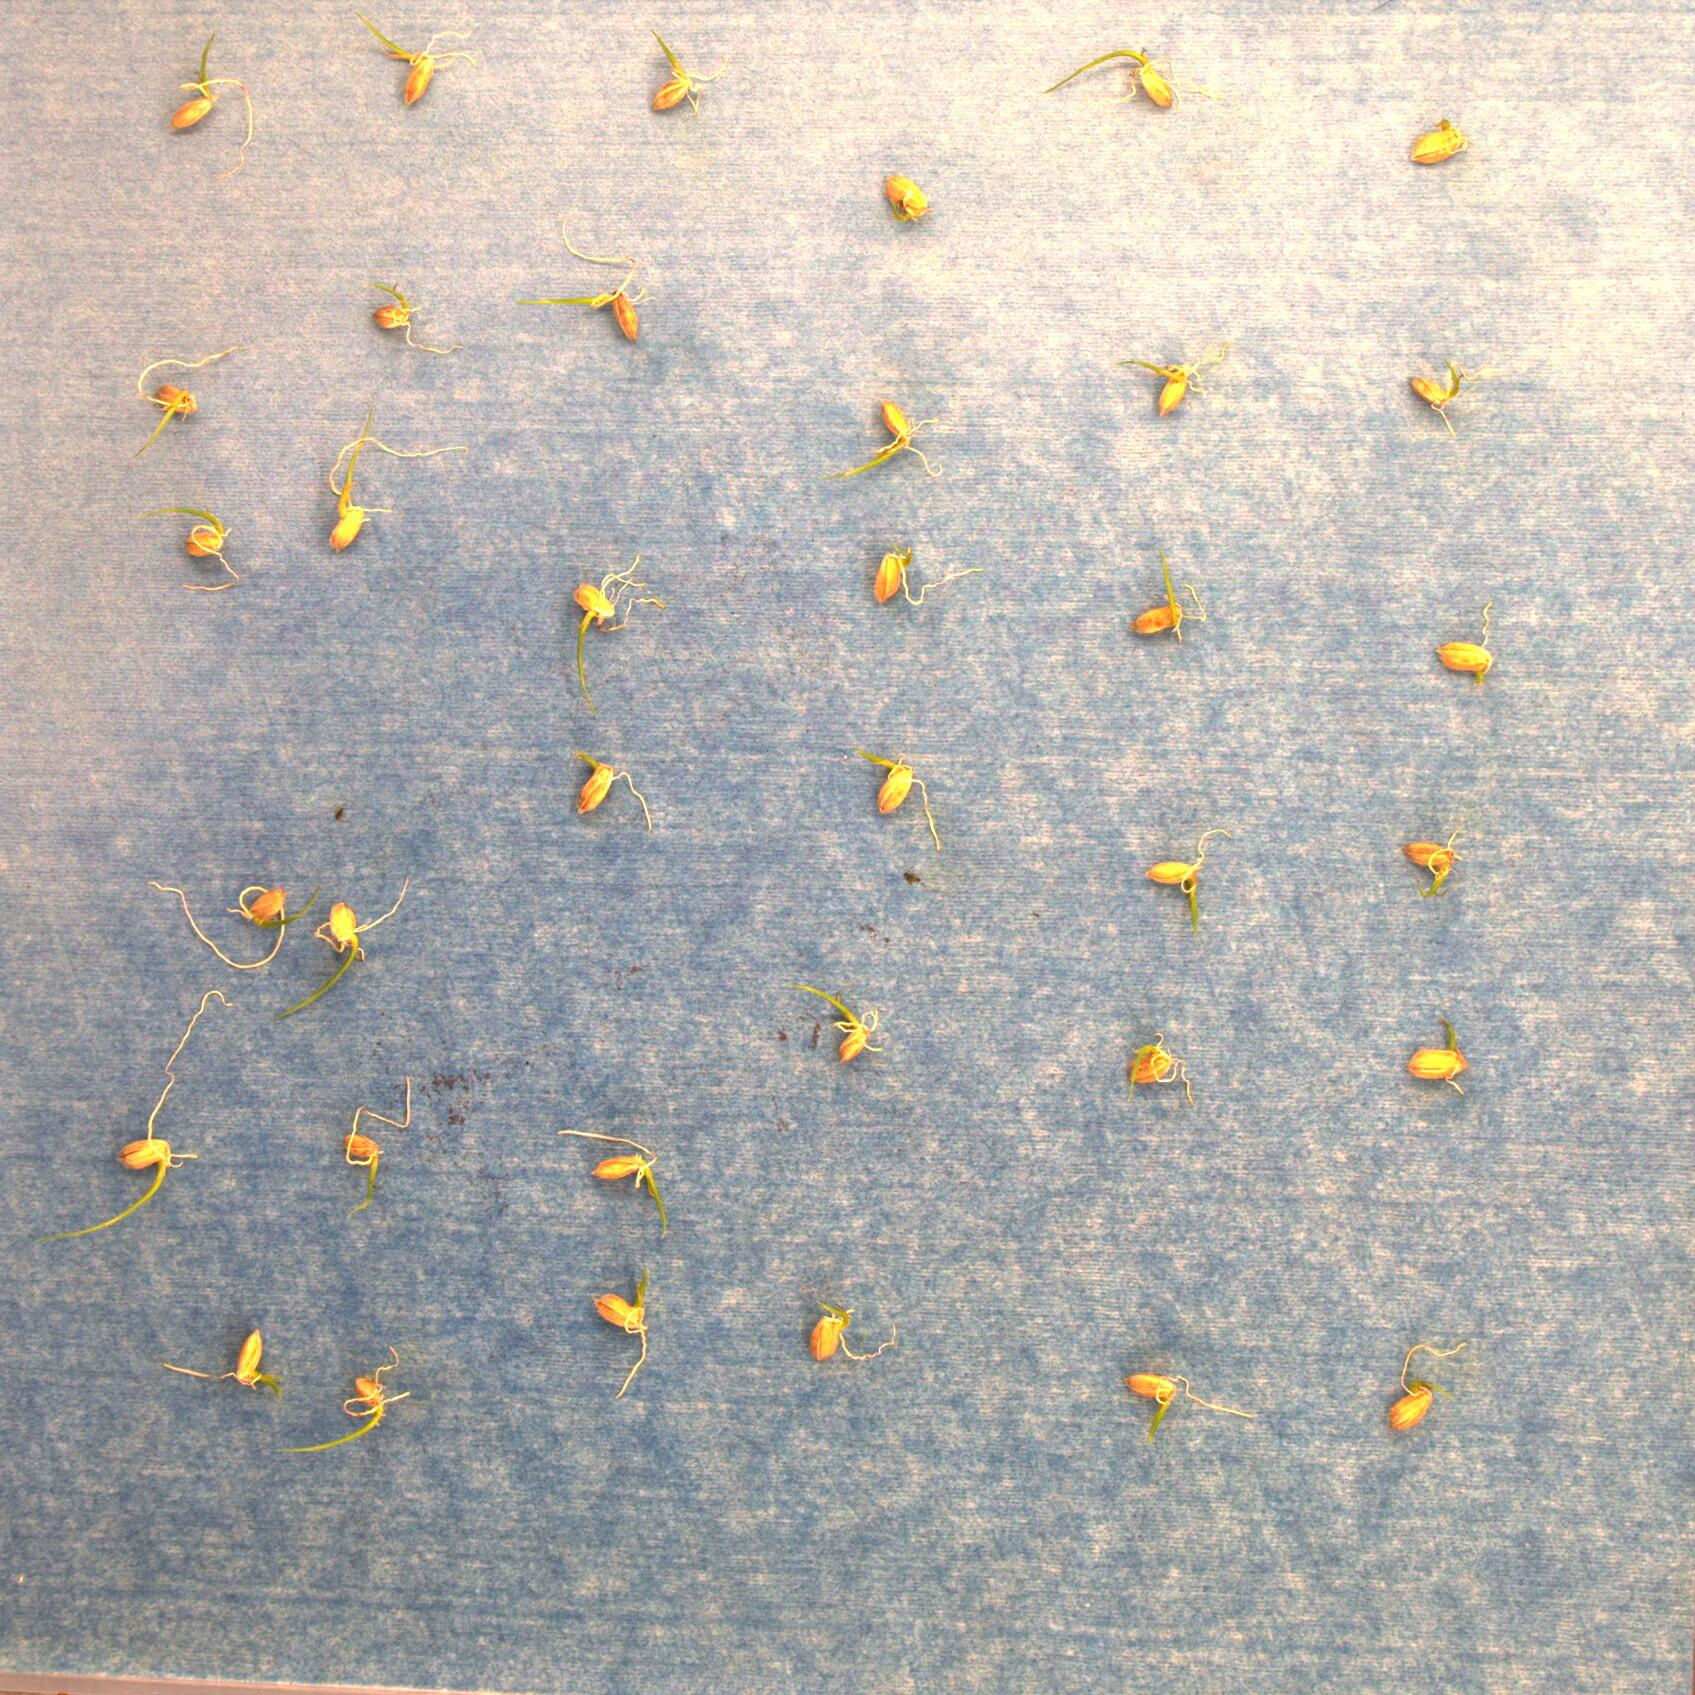not sprout: (365, 272, 455, 376), (1406, 113, 1482, 185), (875, 168, 947, 236)
sprout: (12, 981, 250, 1236), (267, 390, 422, 618), (275, 849, 424, 1021), (539, 189, 685, 359), (248, 1327, 411, 1478), (335, 1069, 442, 1256), (115, 328, 261, 458), (556, 1091, 681, 1229), (567, 542, 664, 719), (1042, 48, 1226, 137), (154, 20, 253, 183), (1133, 1357, 1257, 1478), (818, 386, 955, 492), (332, 8, 466, 112), (846, 730, 947, 860), (1138, 798, 1226, 944), (768, 969, 889, 1074), (798, 1277, 922, 1377), (632, 25, 742, 130), (868, 529, 990, 622), (590, 1260, 671, 1399), (174, 472, 250, 618), (1388, 1340, 1481, 1458), (1402, 809, 1485, 933), (1105, 1007, 1203, 1110), (1124, 542, 1211, 657), (1392, 345, 1489, 442), (191, 852, 290, 944), (171, 1322, 309, 1385), (1403, 1031, 1496, 1110), (567, 740, 649, 826), (1119, 354, 1229, 418), (1434, 605, 1507, 692)
